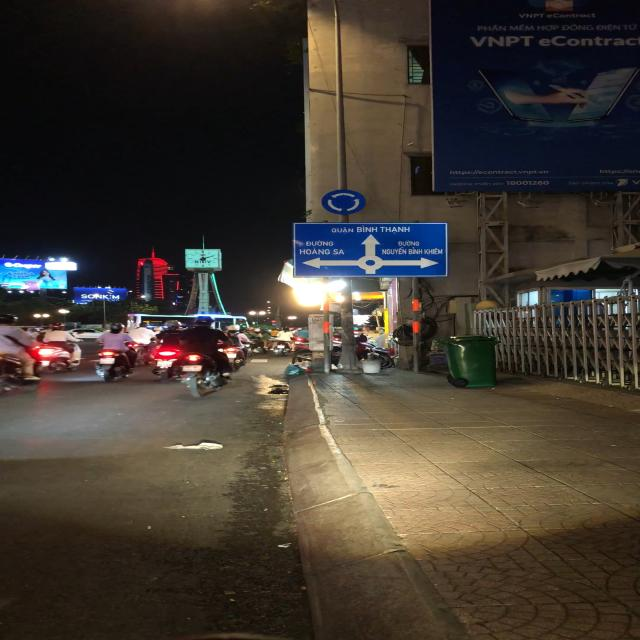Bien bao noi giao nhau chay theo vong xuyen: (319, 188, 371, 216)
